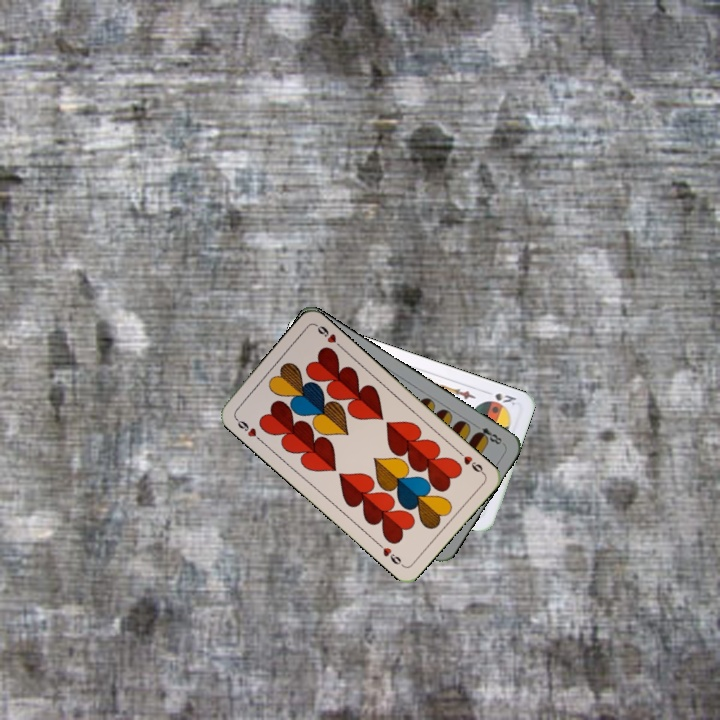E8: (470, 420, 506, 447)
H9: (453, 446, 487, 477), (231, 413, 264, 444)
SK: (480, 387, 519, 408)
